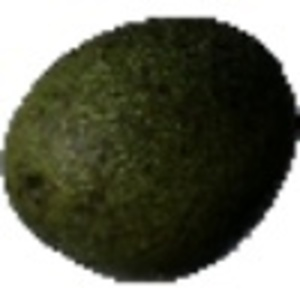abacate: (1, 12, 295, 284)
